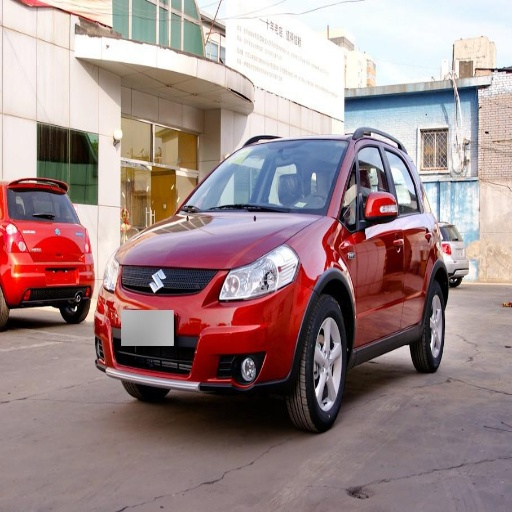front_bumper: (92, 264, 311, 395)
front_glass: (182, 140, 346, 212)
front_left_door: (346, 137, 405, 343)
trunk: (9, 209, 64, 291)
